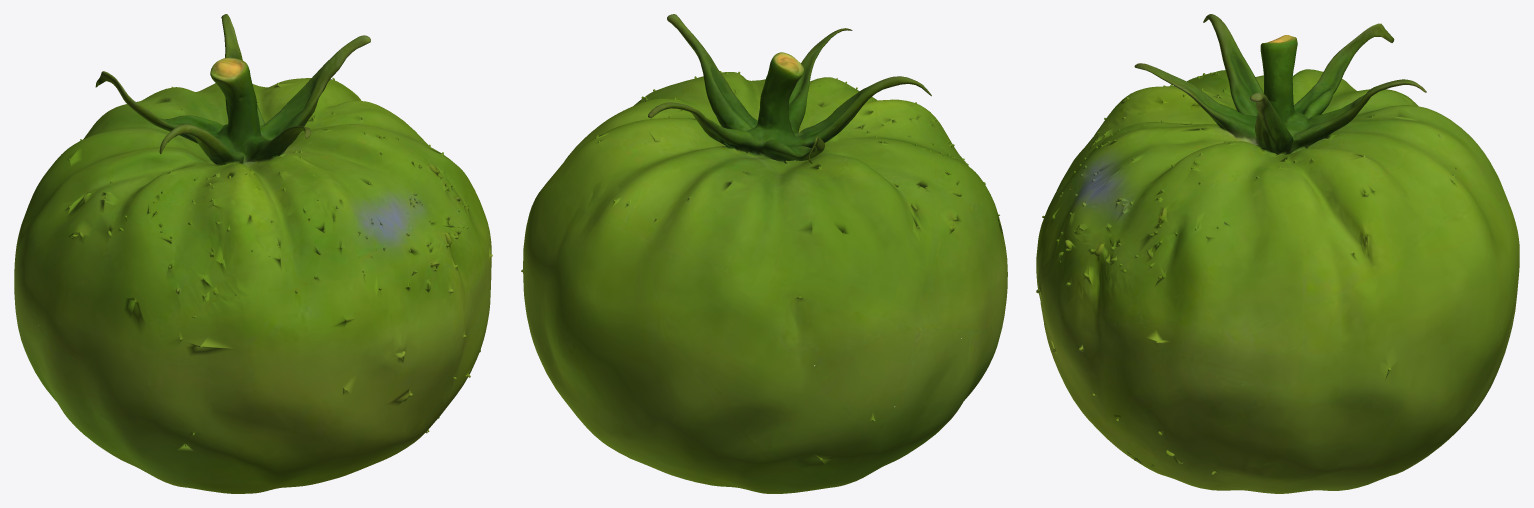
The model's file is unripe.glb.
3 renders of one model, left to right at view 1: azimuth 30°, elevation 25°; view 2: azimuth 150°, elevation 25°; view 3: azimuth 270°, elevation 25°, orthographic. The views are drawn at different scales.
Parts seen in each view (by area): view 1: tripo_node_da9675ac-08af-450e-ad9d-46f9364482de; view 2: tripo_node_da9675ac-08af-450e-ad9d-46f9364482de; view 3: tripo_node_da9675ac-08af-450e-ad9d-46f9364482de.
Boxes of the visible parts, x1=… form: tripo_node_da9675ac-08af-450e-ad9d-46f9364482de: x1=14, y1=14, x2=492, y2=493; tripo_node_da9675ac-08af-450e-ad9d-46f9364482de: x1=521, y1=14, x2=1007, y2=493; tripo_node_da9675ac-08af-450e-ad9d-46f9364482de: x1=1036, y1=14, x2=1519, y2=493.
Size of the model in its own units: 0.9797 by 0.8923 by 0.9713.
1 material, 1 textured.
